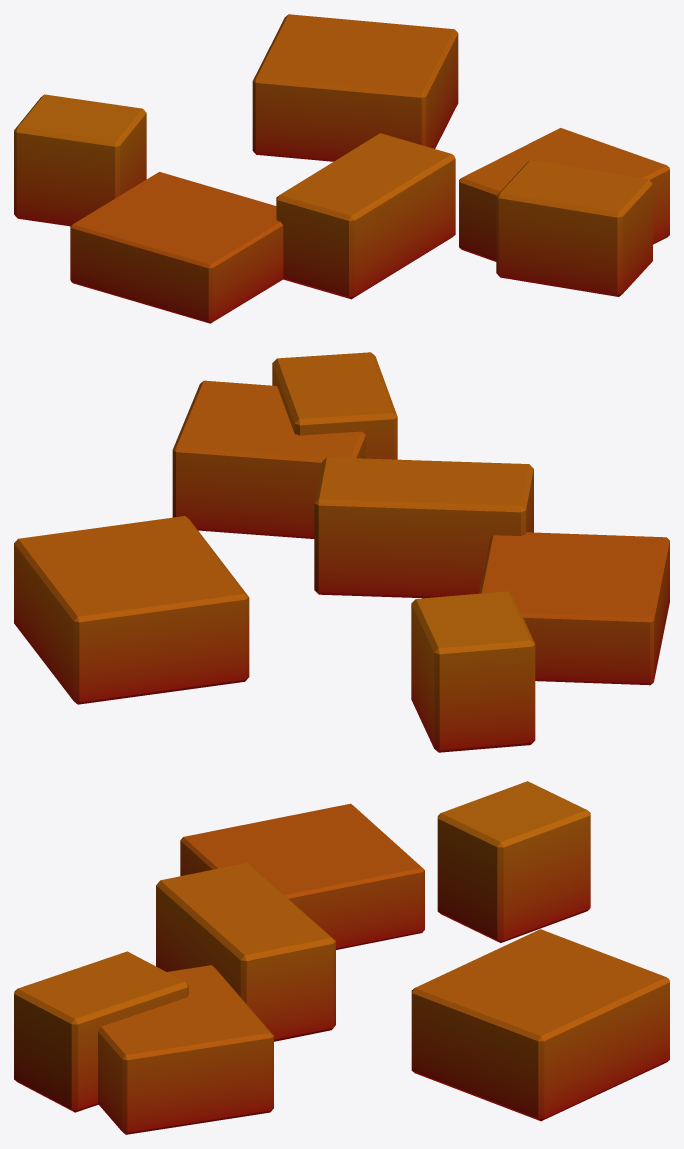
File: rubble_1.glb
3 renders of one model, top to bottom at view 1: azimuth 30°, elevation 25°; view 2: azimuth 150°, elevation 25°; view 3: azimuth 270°, elevation 25°, orthographic. The views are drawn at different scales.
Parts seen in each view (by area): view 1: rubble_1; view 2: rubble_1; view 3: rubble_1.
Boxes of the visible parts, x1=… form: rubble_1: x1=14, y1=14, x2=669, y2=323; rubble_1: x1=14, y1=352, x2=669, y2=752; rubble_1: x1=14, y1=781, x2=669, y2=1134.
Size of what is drawn, in the model's own units: 2.27 by 0.3985 by 2.34.
